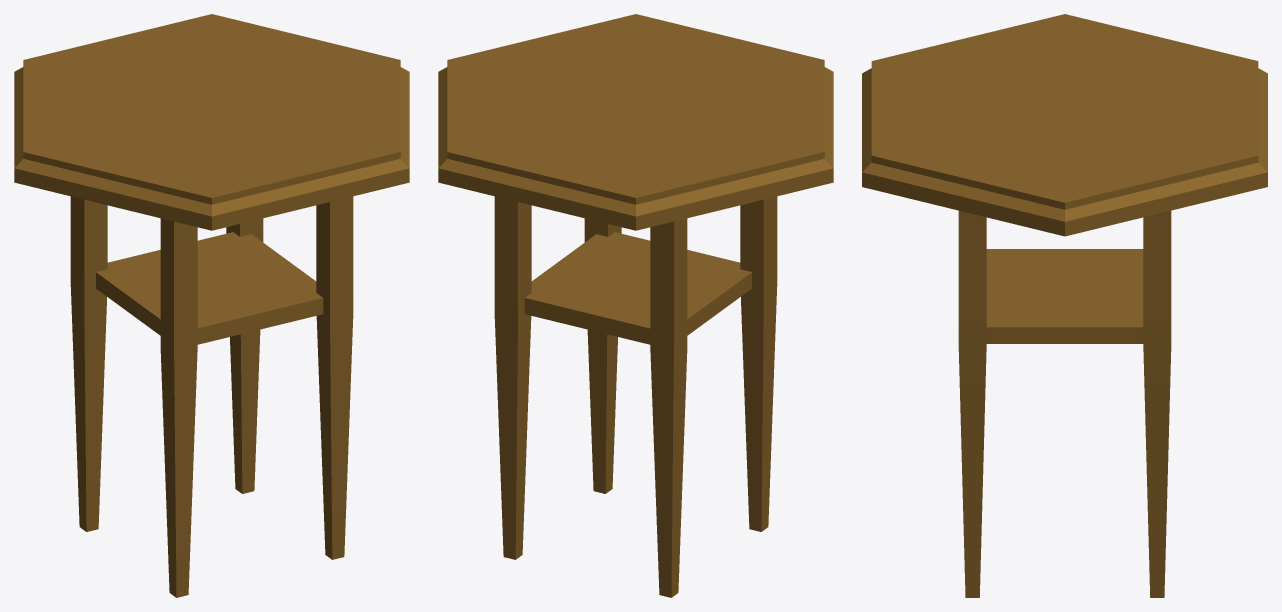
File: MiniTable-einfarbig.FBX
3 renders of one model, left to right at view 1: azimuth 30°, elevation 25°; view 2: azimuth 150°, elevation 25°; view 3: azimuth 270°, elevation 25°, orthographic. The views are drawn at different scales.
Visible parts, largest first — view 1: Box005; view 2: Box005; view 3: Box005.
Boxes of the visible parts, x1,y1,x2,y2 form: Box005: (14, 14, 409, 597); Box005: (438, 14, 833, 597); Box005: (862, 14, 1267, 597).
Bounding box in the file's own units: 19.98 × 21.06 × 17.3.
